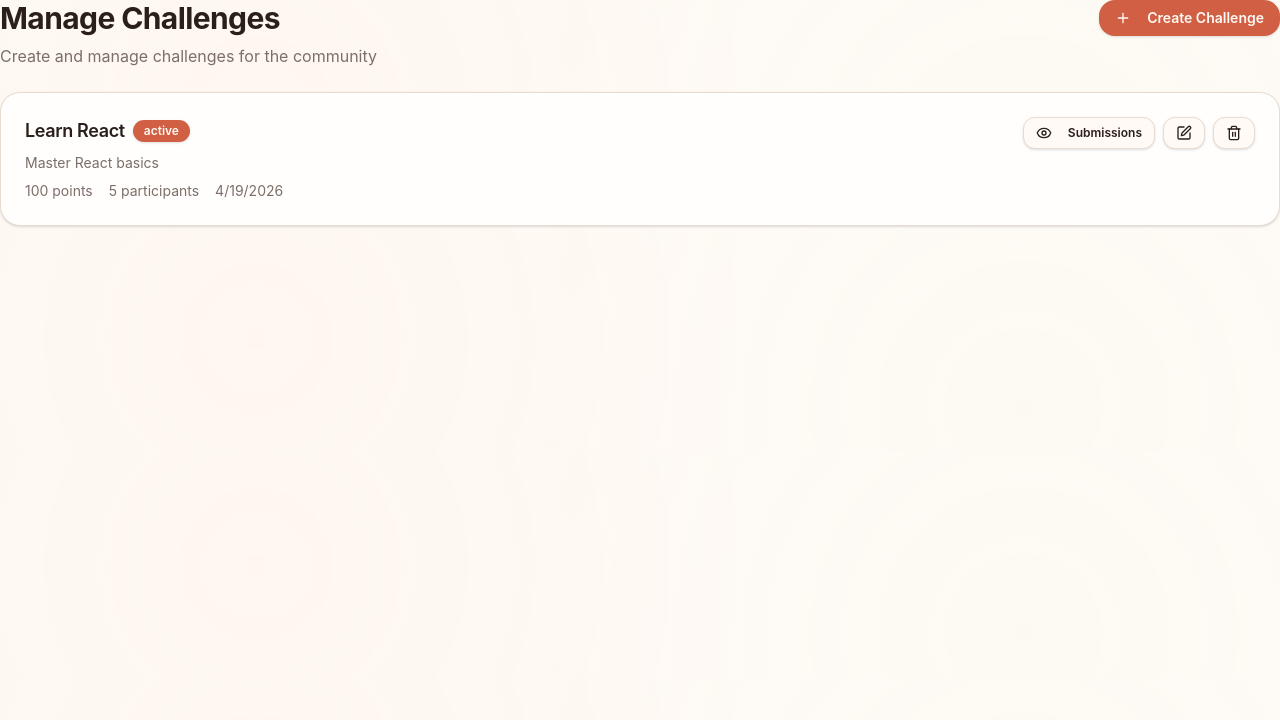
Test: AdminChallengesPage › Edit Challenge › should open edit dialog when clicking edit button
Expected: the heading "Learn React" is shown, [25,117,125,145]
Note: Find and click edit button (buttons: Create, Submissions, Edit, Delete)
Click the 3rd button: (1184, 133) [1163,117,1205,149]
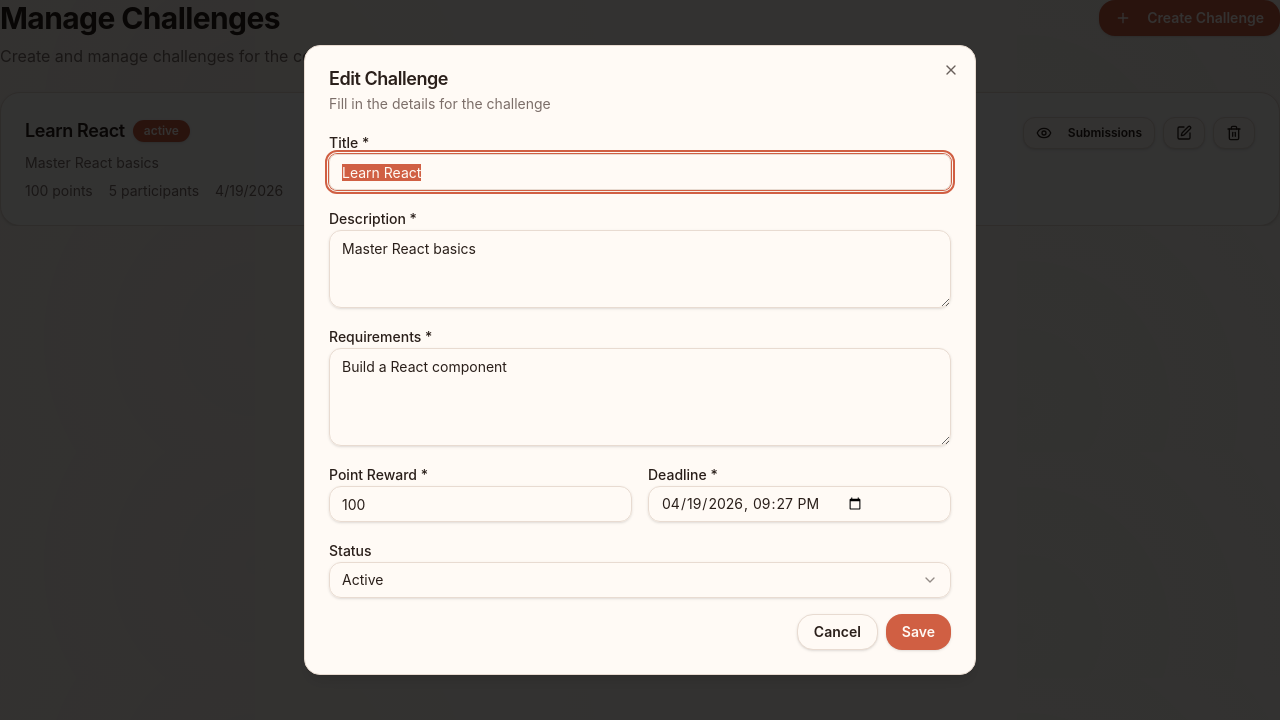
Expected: the heading "Edit Challenge" is shown, [329,68,448,89]
